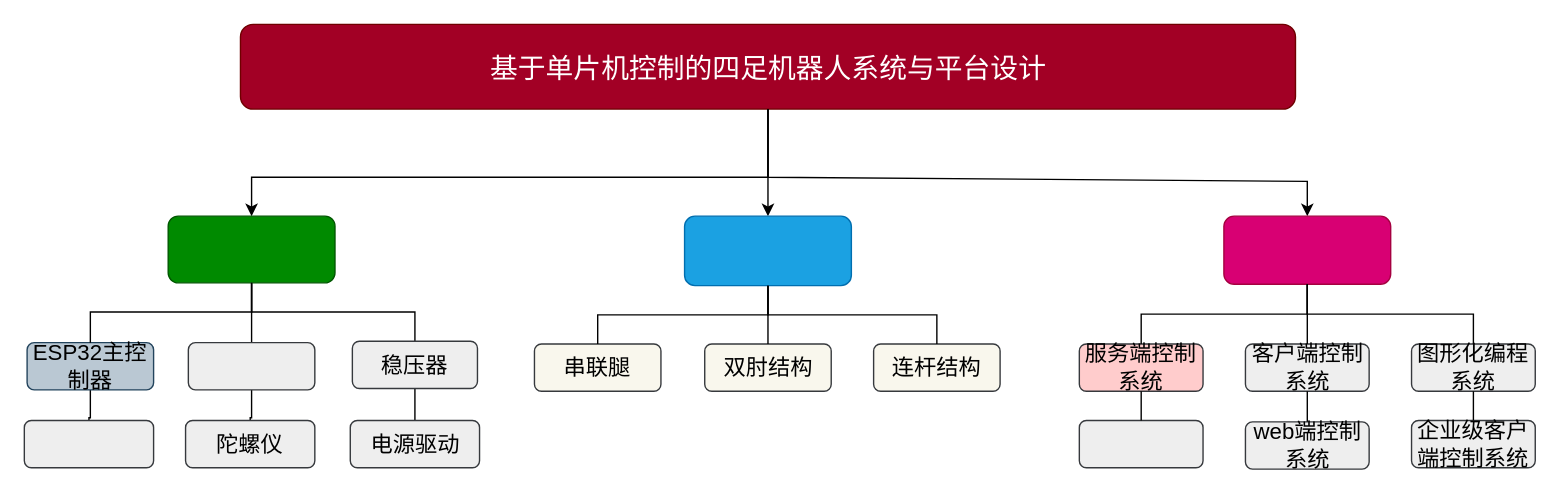
Some shapes in this 1560 by 496 pixel diagram are drawn without their labels. Here are the shapes that lost their labels. From the top down, the box of each, then its label:
(167, 215, 335, 283): 硬件控制系统
(683, 215, 851, 286): 机械系统
(1223, 215, 1391, 284): 软件系统
(187, 341, 315, 390): PCA9685舵机扩展板
(23, 419, 154, 468): 舵机驱动器
(1078, 419, 1203, 468): ChatGPT系统
